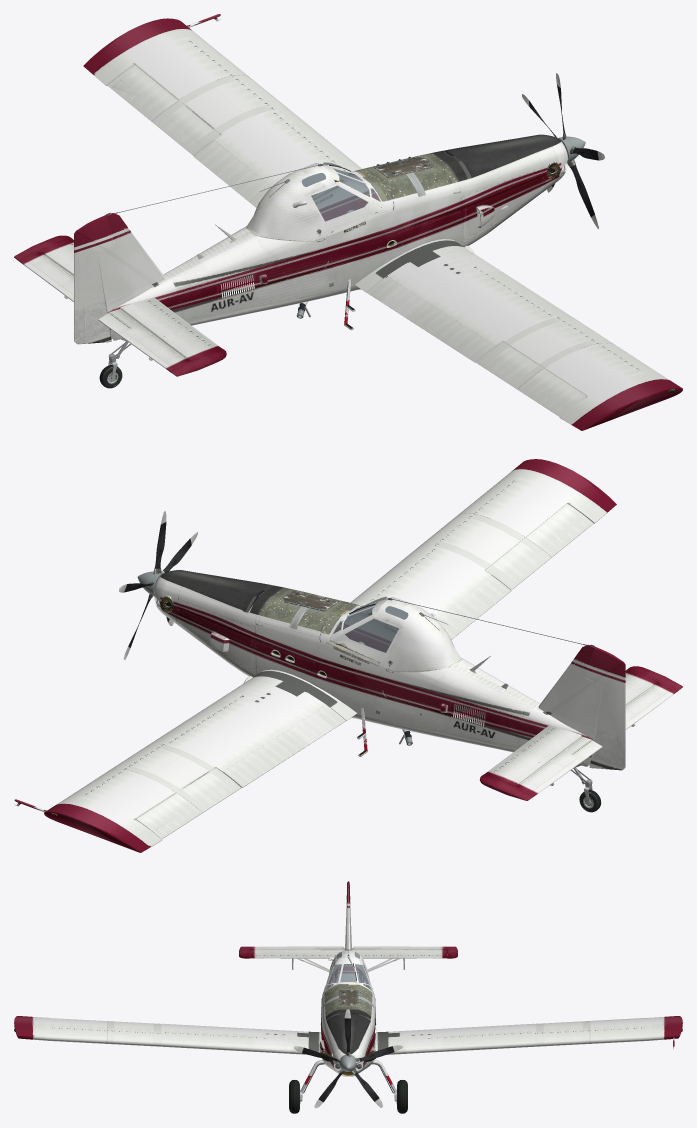
The picture shows the model from 3 angles, top to bottom: view 1: azimuth 30°, elevation 25°; view 2: azimuth 150°, elevation 25°; view 3: azimuth 270°, elevation 25°; orthographic projection. The views are drawn at different scales.
Visible parts, largest first — view 1: mat03, mat02, mat05, mat22, mat02-helice; view 2: mat03, mat02, mat05, mat22, mat02-helice; view 3: mat03, mat02, mat02-helice, mat05, mat22.
Part boxes in pixels (x1,y1,x2,y2): mat03: (83, 18, 682, 430); mat02: (14, 14, 568, 388); mat05: (74, 161, 559, 344); mat22: (301, 168, 380, 221); mat02-helice: (522, 73, 604, 228); mat03: (44, 459, 616, 852); mat02: (14, 570, 682, 812); mat05: (162, 595, 625, 770); mat22: (333, 602, 418, 652); mat02-helice: (119, 511, 197, 659); mat03: (14, 1016, 682, 1054); mat02: (239, 946, 674, 1113); mat02-helice: (294, 1009, 402, 1108); mat05: (300, 881, 396, 1101); mat22: (325, 952, 371, 990).
Bounding box in the file's own units: 10.5 × 4.05 × 18.04.
16 materials, 9 textured.
